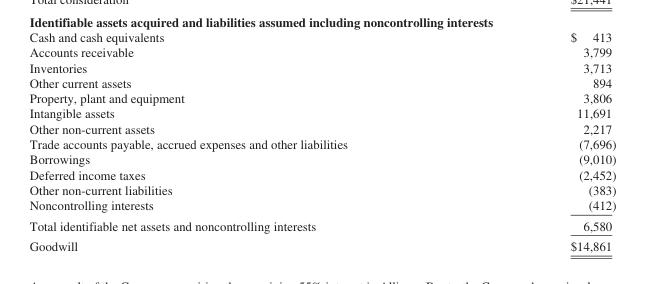table: (28, 29, 615, 253)
table column: (28, 29, 458, 253), (458, 29, 615, 253)
table row: (28, 215, 615, 235), (28, 197, 615, 215), (28, 235, 615, 253), (28, 74, 615, 90), (28, 120, 615, 136), (28, 166, 615, 182), (28, 29, 615, 44), (28, 44, 615, 59), (28, 59, 615, 74), (28, 90, 615, 105), (28, 105, 615, 120), (28, 136, 615, 151), (28, 151, 615, 166), (28, 182, 615, 197)
